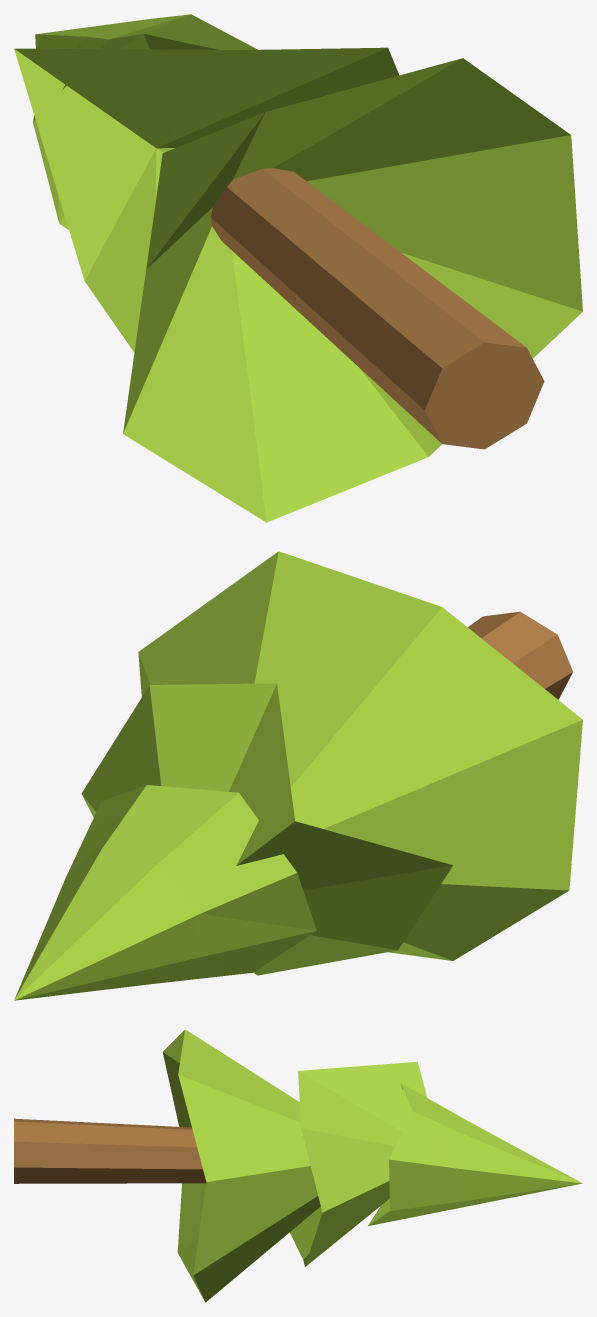
File: pine3.dae
The picture shows the model from 3 angles, top to bottom: view 1: azimuth 30°, elevation 25°; view 2: azimuth 150°, elevation 25°; view 3: azimuth 270°, elevation 25°; orthographic projection. The views are drawn at different scales.
Parts seen in each view (by area): view 1: Green, Brown; view 2: Green, Brown; view 3: Green, Brown.
Boxes of the visible parts, x1,y1,x2,y2 form: Green: (14,14,582,522); Brown: (210,168,544,449); Green: (14,551,582,1000); Brown: (468,611,572,699); Green: (162,1029,582,1302); Brown: (14,1118,206,1183).
Size of the model in its own units: 0.5581 by 1.06 by 0.4742.
